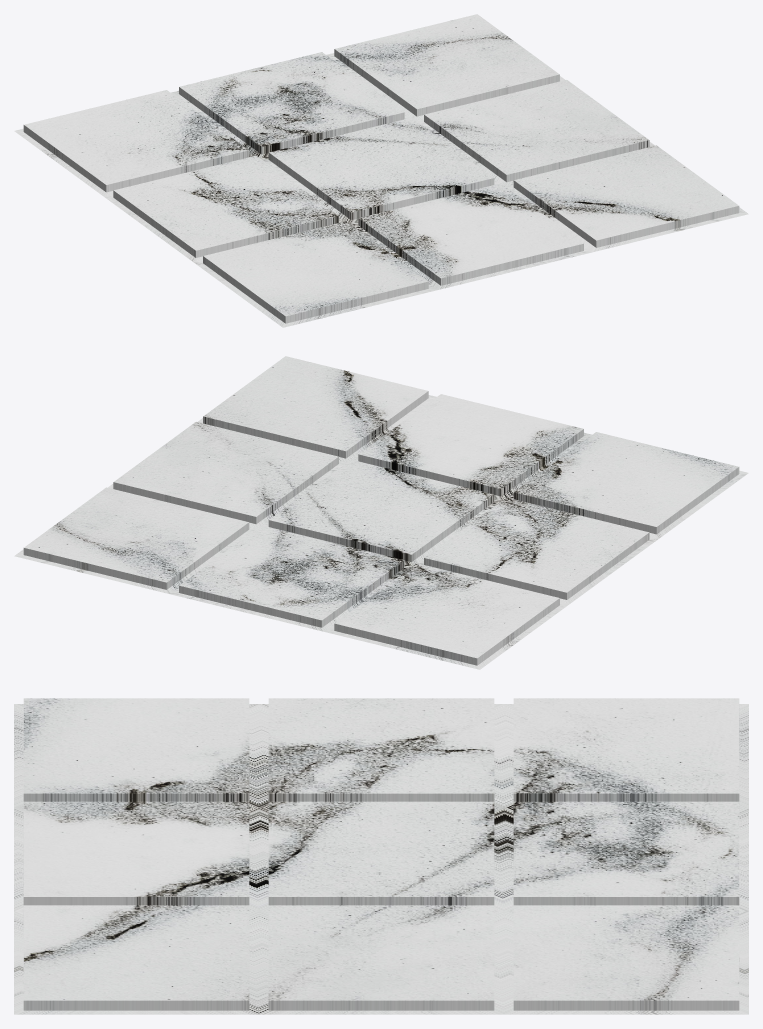
The model's file is bottomTile.FBX.
3 views of the same model, one above another, from view 1: azimuth 30°, elevation 25°; view 2: azimuth 150°, elevation 25°; view 3: azimuth 270°, elevation 25° (orthographic). The views are drawn at different scales.
Parts seen in each view (by area): view 1: Object001, Plane001; view 2: Object001, Plane001; view 3: Object001, Plane001.
Boxes of the visible parts, x1,y1,x2,y2 form: Object001: (23, 14, 739, 323); Plane001: (14, 53, 748, 327); Object001: (23, 356, 739, 665); Plane001: (14, 395, 748, 669); Object001: (23, 698, 739, 1010); Plane001: (14, 704, 748, 1014).
Bounding box in the file's own units: 0.03 × 0.00045 × 0.03.
1 material, 1 textured.
